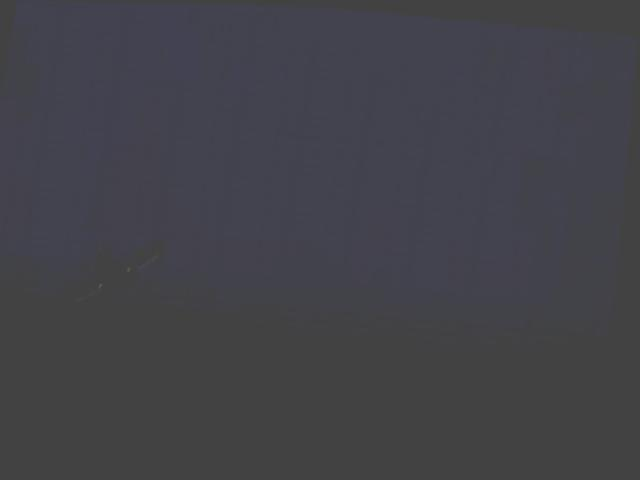iha: (61, 224, 178, 345)
